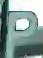Parking: (2, 9, 38, 57)
